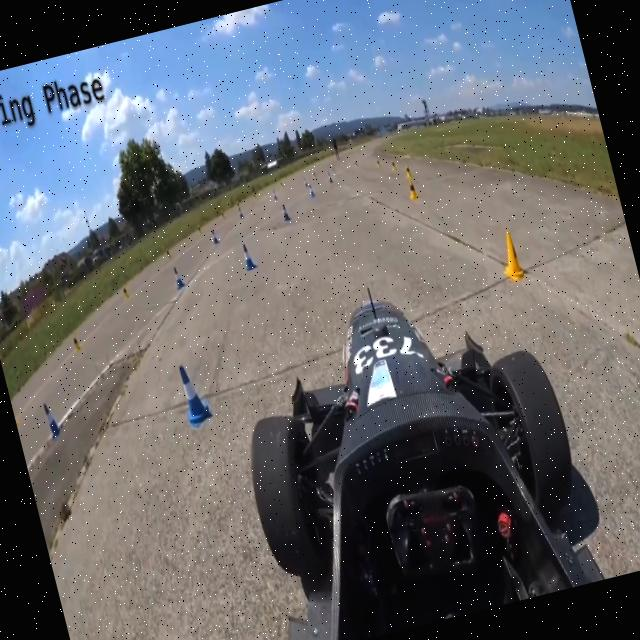blue_cone: (174, 360, 214, 429), (42, 400, 63, 439), (240, 242, 256, 272), (171, 264, 186, 290), (280, 203, 292, 222), (210, 228, 218, 245)
yellow_cone: (496, 228, 528, 282), (406, 177, 418, 200), (404, 162, 414, 180)
